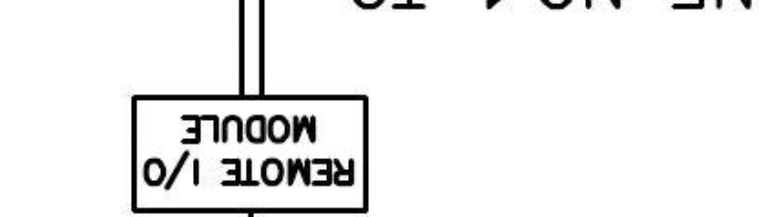remote_io_module: (131, 94, 370, 214)
